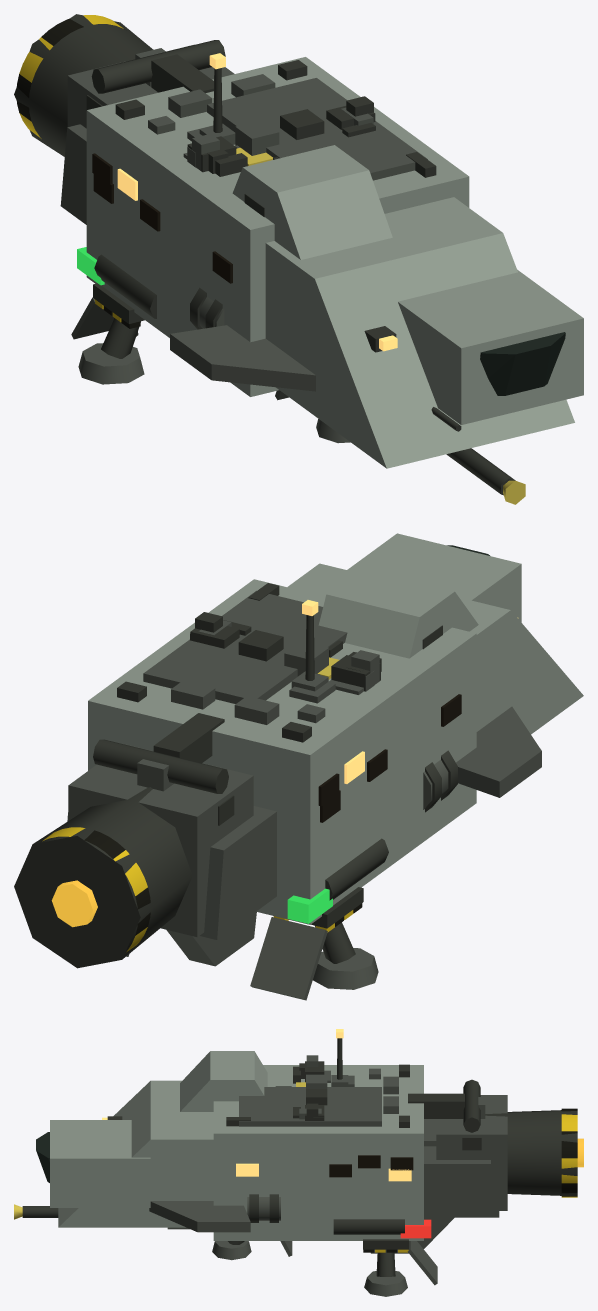
The model's file is courier-s.glb.
3 views of the same model, one above another, from view 1: azimuth 30°, elevation 25°; view 2: azimuth 150°, elevation 25°; view 3: azimuth 270°, elevation 25° (orthographic). The views are drawn at different scales.
Visible parts, largest first — view 1: hullForebody, hullMain, hullNose, canopyFairing, accentStripe, engineHousing, canardLeft, cockpitGlass, propellantHeader, engineBayExtension, hullTailWedge, gearFoot (+10 smaller); view 2: hullMain, engineHousing, hullForebody, engineBayExtension, accentStripe, canopyFairing, hullNose, hullTailWedge, canardLeft, gearBayDoor, propellantHeader, propellantTrunk (+14 smaller); view 3: hullMain, hullForebody, hullNose, engineHousing, accentStripe, hullTailWedge, canopyFairing, engineBayExtension, canardRight, gearFoot (×2), propellantTrunk, courierShiphullMainServicePipeR (+10 smaller).
Part boxes in pixels (x1,y1,x2,y2): hullForebody: (265, 197, 574, 468); hullMain: (86, 57, 469, 396); hullNose: (398, 269, 583, 424); canopyFairing: (232, 145, 392, 259); accentStripe: (207, 78, 427, 180); engineHousing: (14, 14, 153, 156); canardLeft: (170, 325, 315, 391); cockpitGlass: (480, 332, 565, 395); propellantHeader: (91, 40, 225, 93); engineBayExtension: (67, 44, 234, 128); hullTailWedge: (60, 124, 86, 224); gearFoot: (78, 343, 144, 384); hullMain: (88, 579, 476, 924); engineHousing: (14, 787, 192, 968); hullForebody: (287, 563, 583, 734); engineBayExtension: (68, 744, 253, 937); accentStripe: (143, 590, 347, 703); canopyFairing: (318, 568, 478, 658); hullNose: (347, 533, 521, 622); hullTailWedge: (67, 806, 276, 939); canardLeft: (456, 706, 541, 797); gearBayDoor: (250, 917, 327, 1000); propellantHeader: (93, 739, 228, 793); propellantTrunk: (153, 713, 224, 763); hullMain: (213, 1065, 423, 1240); hullForebody: (58, 1080, 213, 1227); hullNose: (50, 1120, 150, 1207); engineHousing: (485, 1110, 577, 1196); accentStripe: (239, 1087, 381, 1126); hullTailWedge: (424, 1119, 499, 1217); canopyFairing: (180, 1051, 267, 1111); engineBayExtension: (436, 1095, 507, 1210); canardRight: (149, 1201, 250, 1232); gearFoot (×2): (212, 1241, 407, 1296); propellantTrunk: (408, 1093, 464, 1118); courierShiphullMainServicePipeR: (333, 1219, 404, 1234).
Size of the model in its own units: 1.25 by 1.2 by 2.98.
